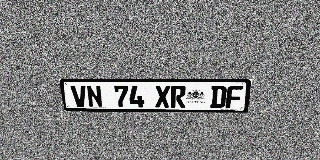plate: (59, 79, 252, 113)
